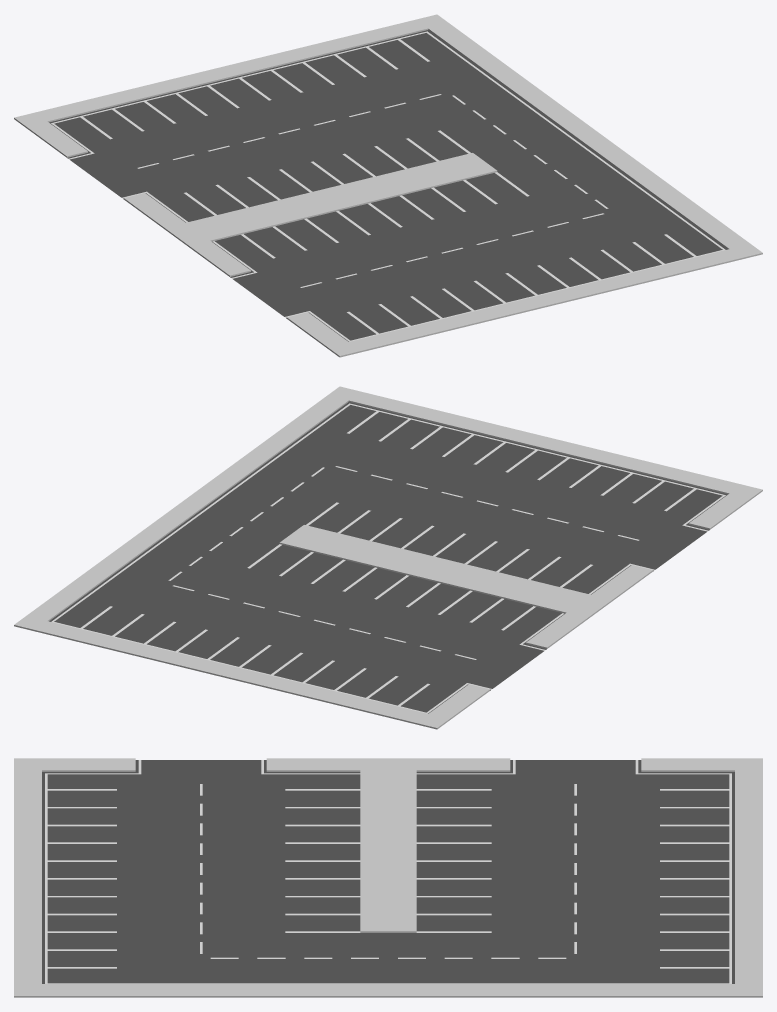
Rendered from SPW_Urban_Road Parking Lot Big.gltf.
3 renders of one model, top to bottom at view 1: azimuth 30°, elevation 25°; view 2: azimuth 150°, elevation 25°; view 3: azimuth 270°, elevation 25°, orthographic. The views are drawn at different scales.
Visible parts, largest first — view 1: SPW_Urban_Road_Parking_Lot_Big; view 2: SPW_Urban_Road_Parking_Lot_Big; view 3: SPW_Urban_Road_Parking_Lot_Big.
Boxes of the visible parts, x1,y1,x2,y2 form: SPW_Urban_Road_Parking_Lot_Big: [14, 14, 762, 357]; SPW_Urban_Road_Parking_Lot_Big: [14, 386, 762, 729]; SPW_Urban_Road_Parking_Lot_Big: [14, 758, 762, 997].
Size of the model in its own units: 2362 by 7.87 by 3150.
1 material, 1 textured.
